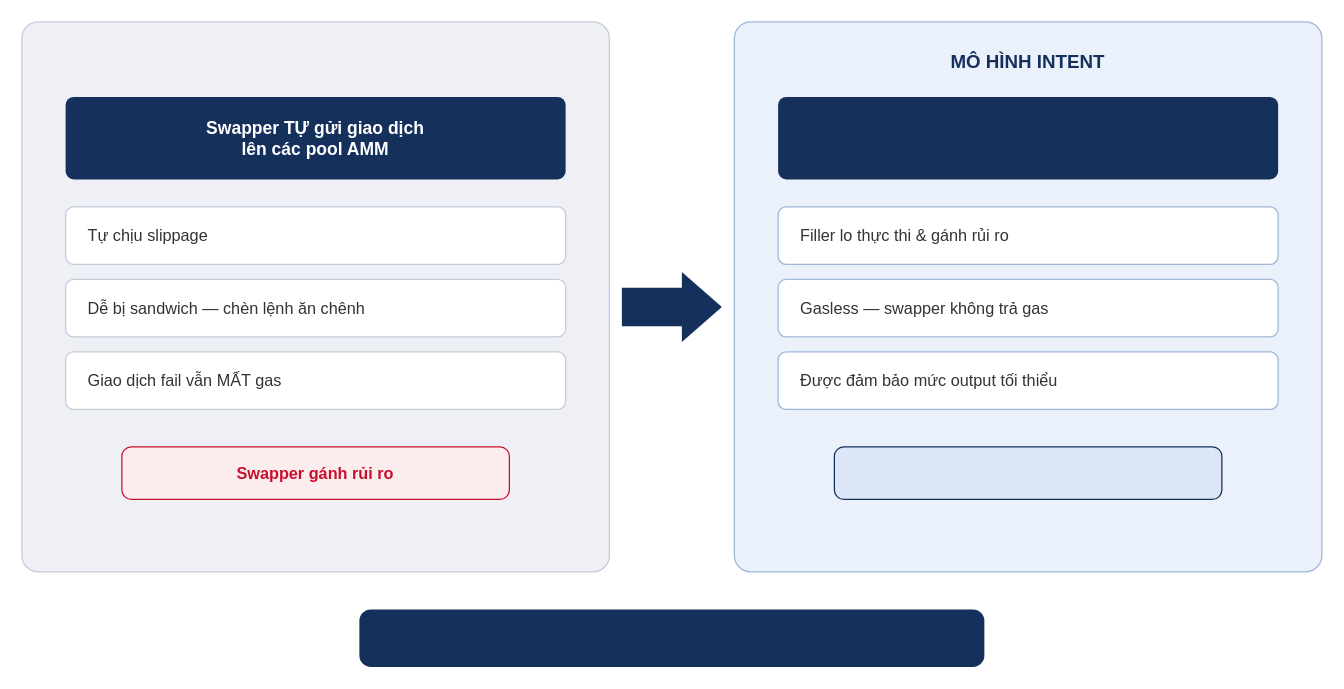
Image size: 1344x689. Some labels were removed from this diagram. The shapes that lost their labels are listed below. From the top down, each one's box as (x1, y1, x2, y2) in pixels, then its label:
(778, 96, 1278, 179): Swapper chỉ KÝ intent: "đổi X, nhận tối thiểu Y"
(21, 21, 609, 572): AGGREGATOR TRUYỀN THỐNG
(833, 446, 1222, 499): Filler gánh rủi ro
(359, 609, 984, 666): Mô hình phổ biến hiện nay: 1 order chỉ 1 filler khớp trọn
